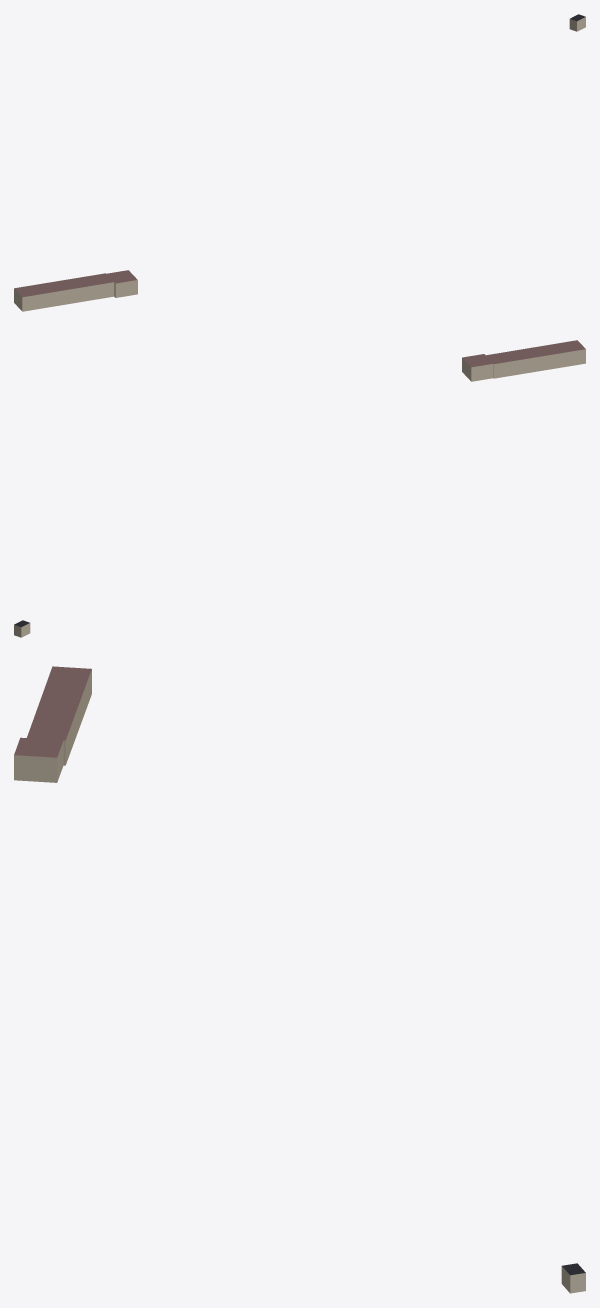
The picture shows the model from 3 angles, top to bottom: view 1: azimuth 30°, elevation 25°; view 2: azimuth 210°, elevation 25°; view 3: azimuth 270°, elevation 25°; orthographic projection. The views are drawn at different scales.
Parts seen in each view (by area): view 1: tuile; view 2: tuile; view 3: tuile.
Part boxes in pixels (x1,y1,x2,y2): tuile: (14,14,585,311); tuile: (14,340,585,637); tuile: (14,666,585,1293).
Bounding box in the file's own units: 272 × 5.27 × 108.
